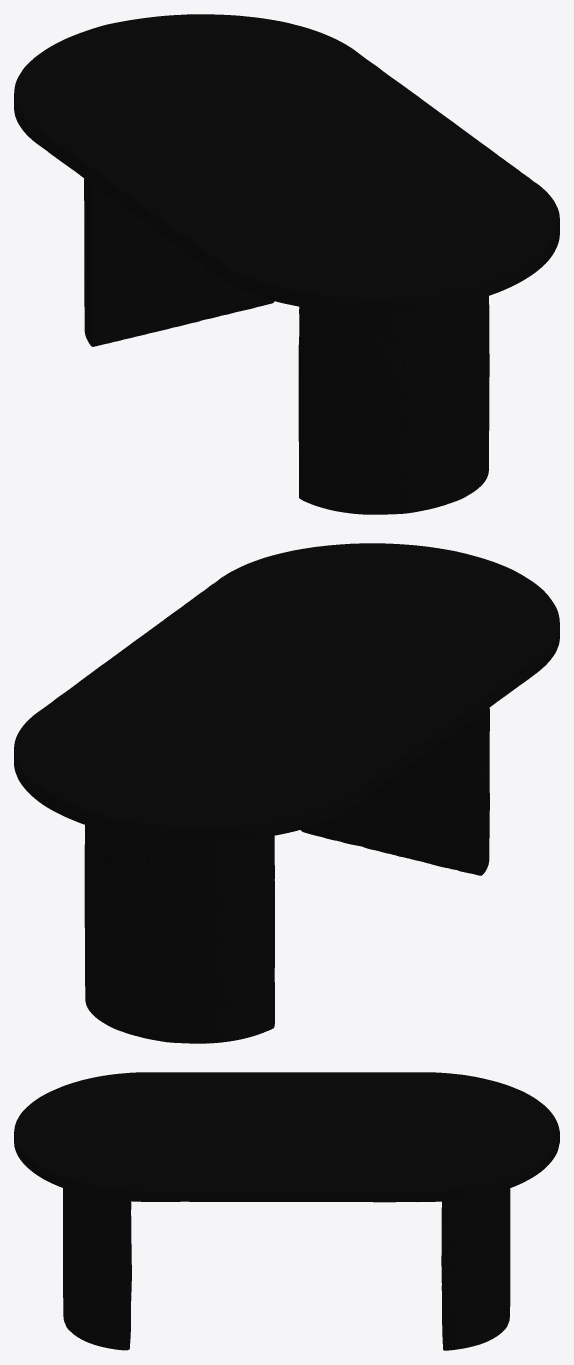
The model's file is ND-0863__Lily_mesa30_50.glb.
3 views of the same model, one above another, from view 1: azimuth 30°, elevation 25°; view 2: azimuth 150°, elevation 25°; view 3: azimuth 270°, elevation 25° (orthographic). The views are drawn at different scales.
Parts seen in each view (by area): view 1: Mesh_0.001; view 2: Mesh_0.001; view 3: Mesh_0.001.
Boxes of the visible parts, left/top/right/bottom form: Mesh_0.001: left=14, top=14, right=559, bottom=514; Mesh_0.001: left=14, top=543, right=559, bottom=1043; Mesh_0.001: left=14, top=1072, right=559, bottom=1350.
Size of the model in its own units: 1.03 by 0.7541 by 2.
Materials: 1 (1 with a texture image).
